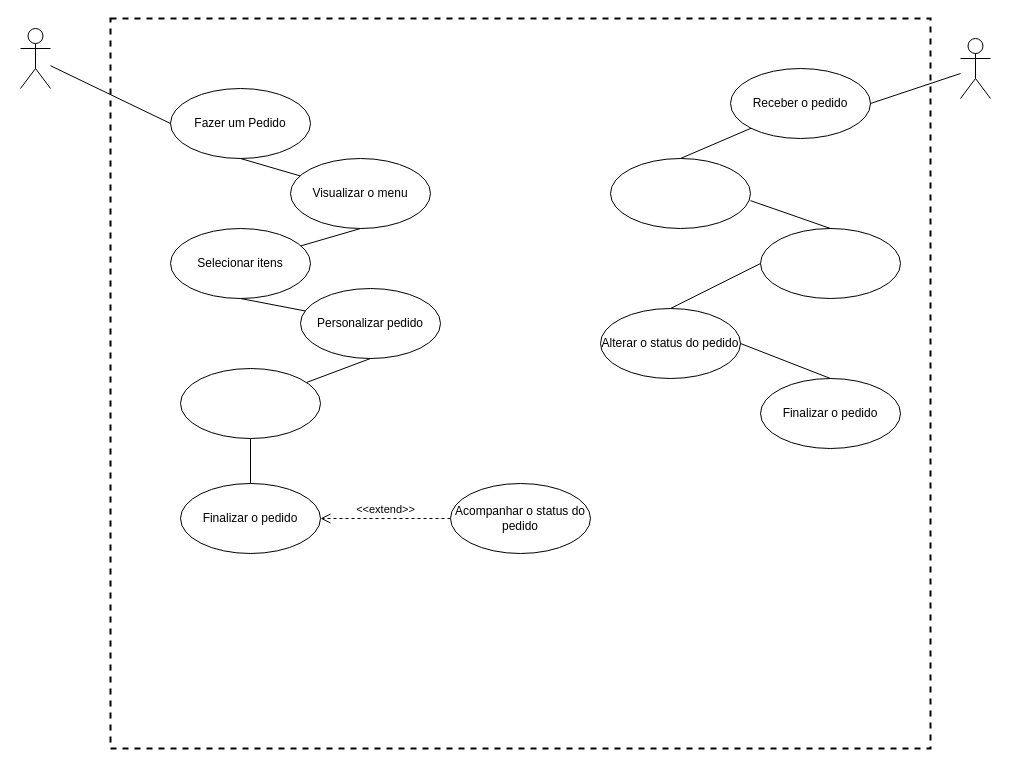
This 1034x766 diagram has some shape labels left out. The shapes that lost their labels are listed below. From the top down, each one's centre as x and y in pixels, then its label:
the point at 35,58: Cliente
the point at 975,68: Loja (operador)
the point at 680,193: Visualizar o pedido
the point at 830,263: Confirmar o pedido
the point at 250,403: Selecionar forma de pagamento
